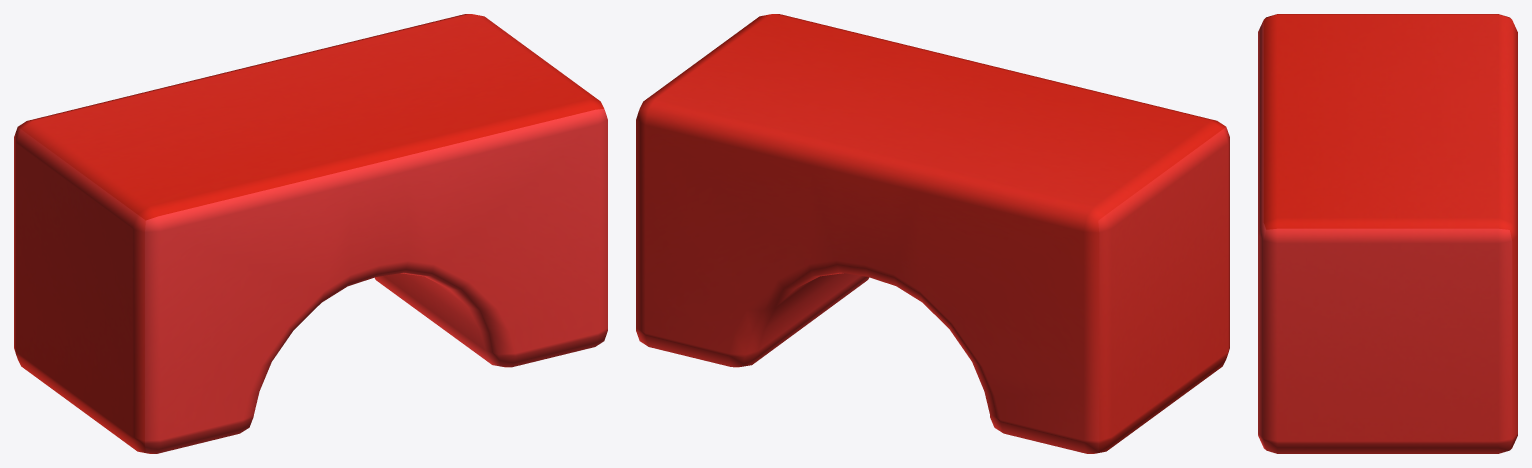
Rendered from BlockBridgeRed.fbx.
3 renders of one model, left to right at view 1: azimuth 30°, elevation 25°; view 2: azimuth 150°, elevation 25°; view 3: azimuth 270°, elevation 25°, orthographic. The views are drawn at different scales.
Parts seen in each view (by area): view 1: Cube.017; view 2: Cube.017; view 3: Cube.017.
Part boxes in pixels (box(x1,y1,x2,y2)): Cube.017: box(14, 14, 607, 453); Cube.017: box(636, 14, 1229, 453); Cube.017: box(1258, 14, 1517, 453).
Bounding box in the file's own units: 400 × 200 × 200.
